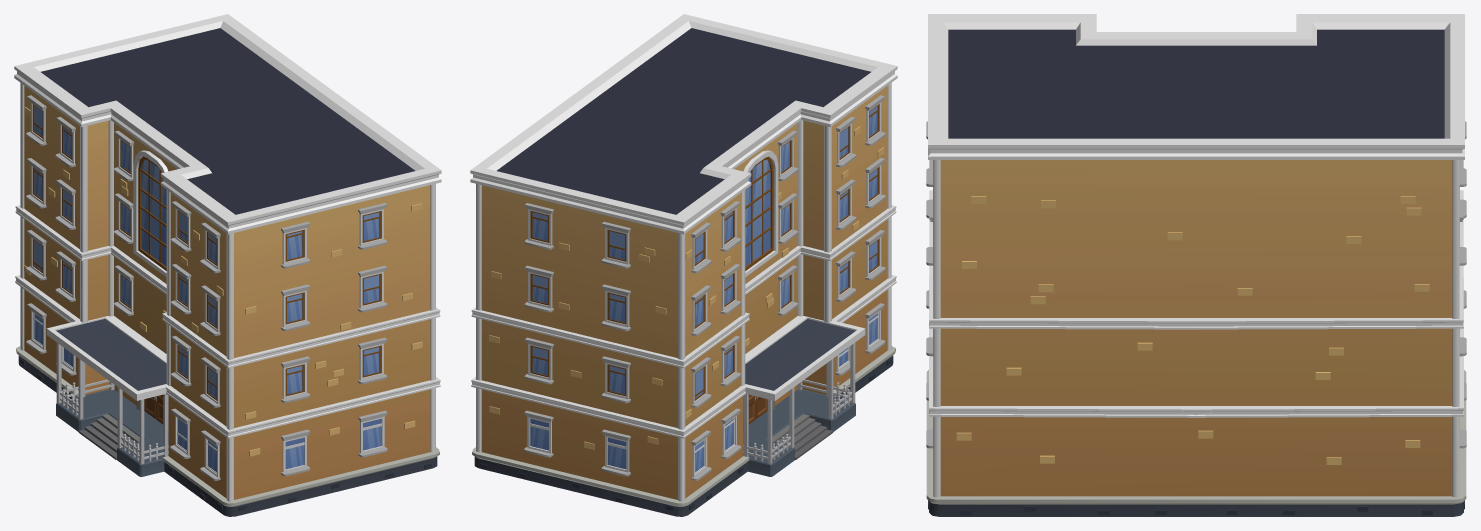
Rendered from Building_5_3_M.fbx.
3 views of the same model, side by side, from view 1: azimuth 30°, elevation 25°; view 2: azimuth 150°, elevation 25°; view 3: azimuth 270°, elevation 25° (orthographic). The views are drawn at different scales.
Parts seen in each view (by area): view 1: Building_5_3_M; view 2: Building_5_3_M; view 3: Building_5_3_M.
Part boxes in pixels (x1,y1,x2,y2): Building_5_3_M: [14, 14, 441, 516]; Building_5_3_M: [470, 14, 897, 516]; Building_5_3_M: [926, 14, 1466, 516].
Size of the model in its own units: 1251 by 1450 by 1908.
